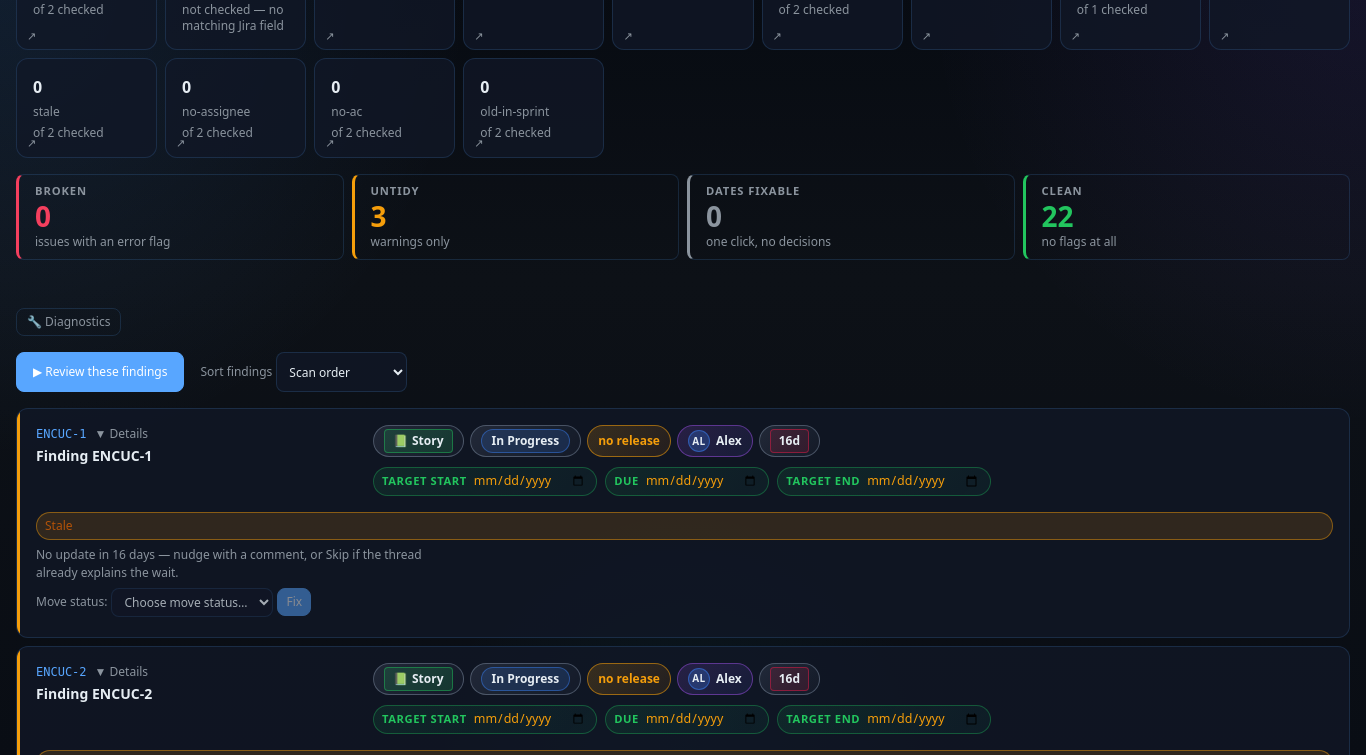
Test: HygieneView › starts a review session with a visible cursor and auto-expands the current finding
(page scrolled)
Click the button "▶ Review these findings": (100, 372) [16,352,184,392]
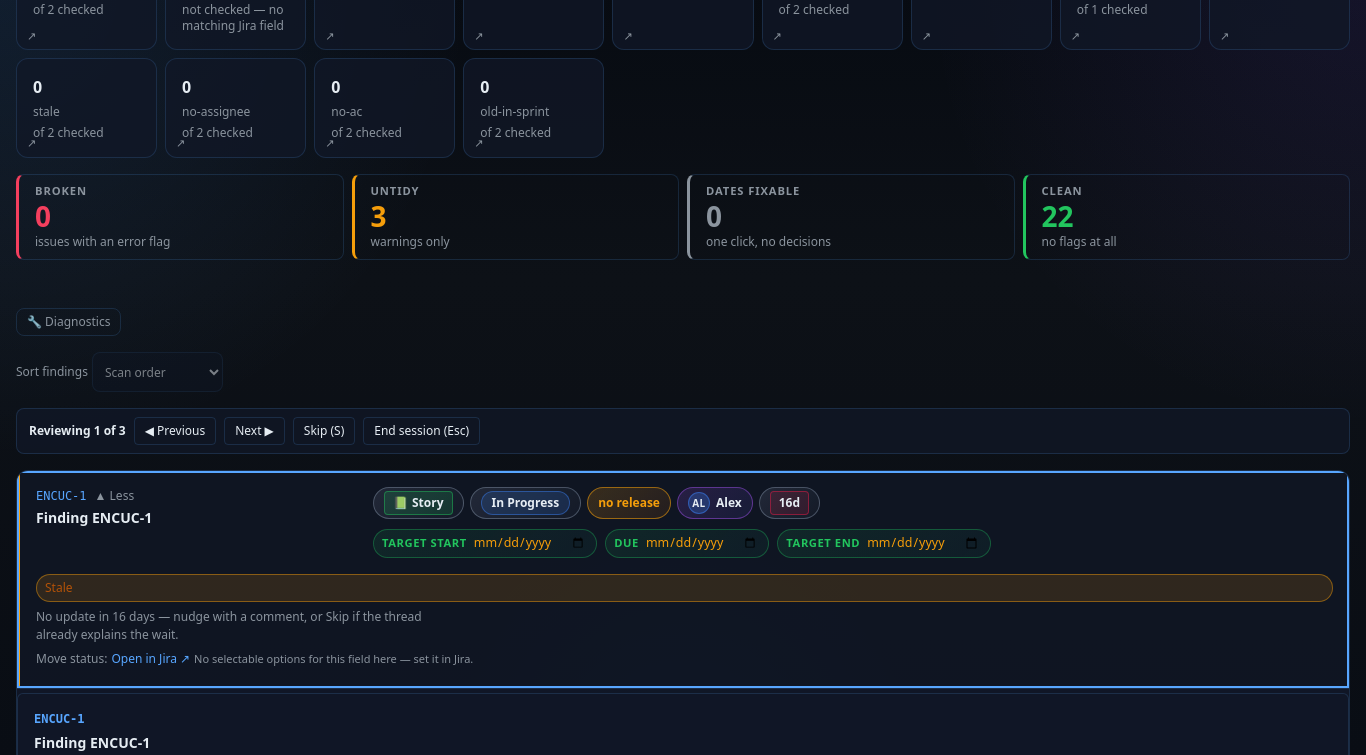
Expected: the text "Reviewing 1 of 3" is shown, [29,422,126,440]
